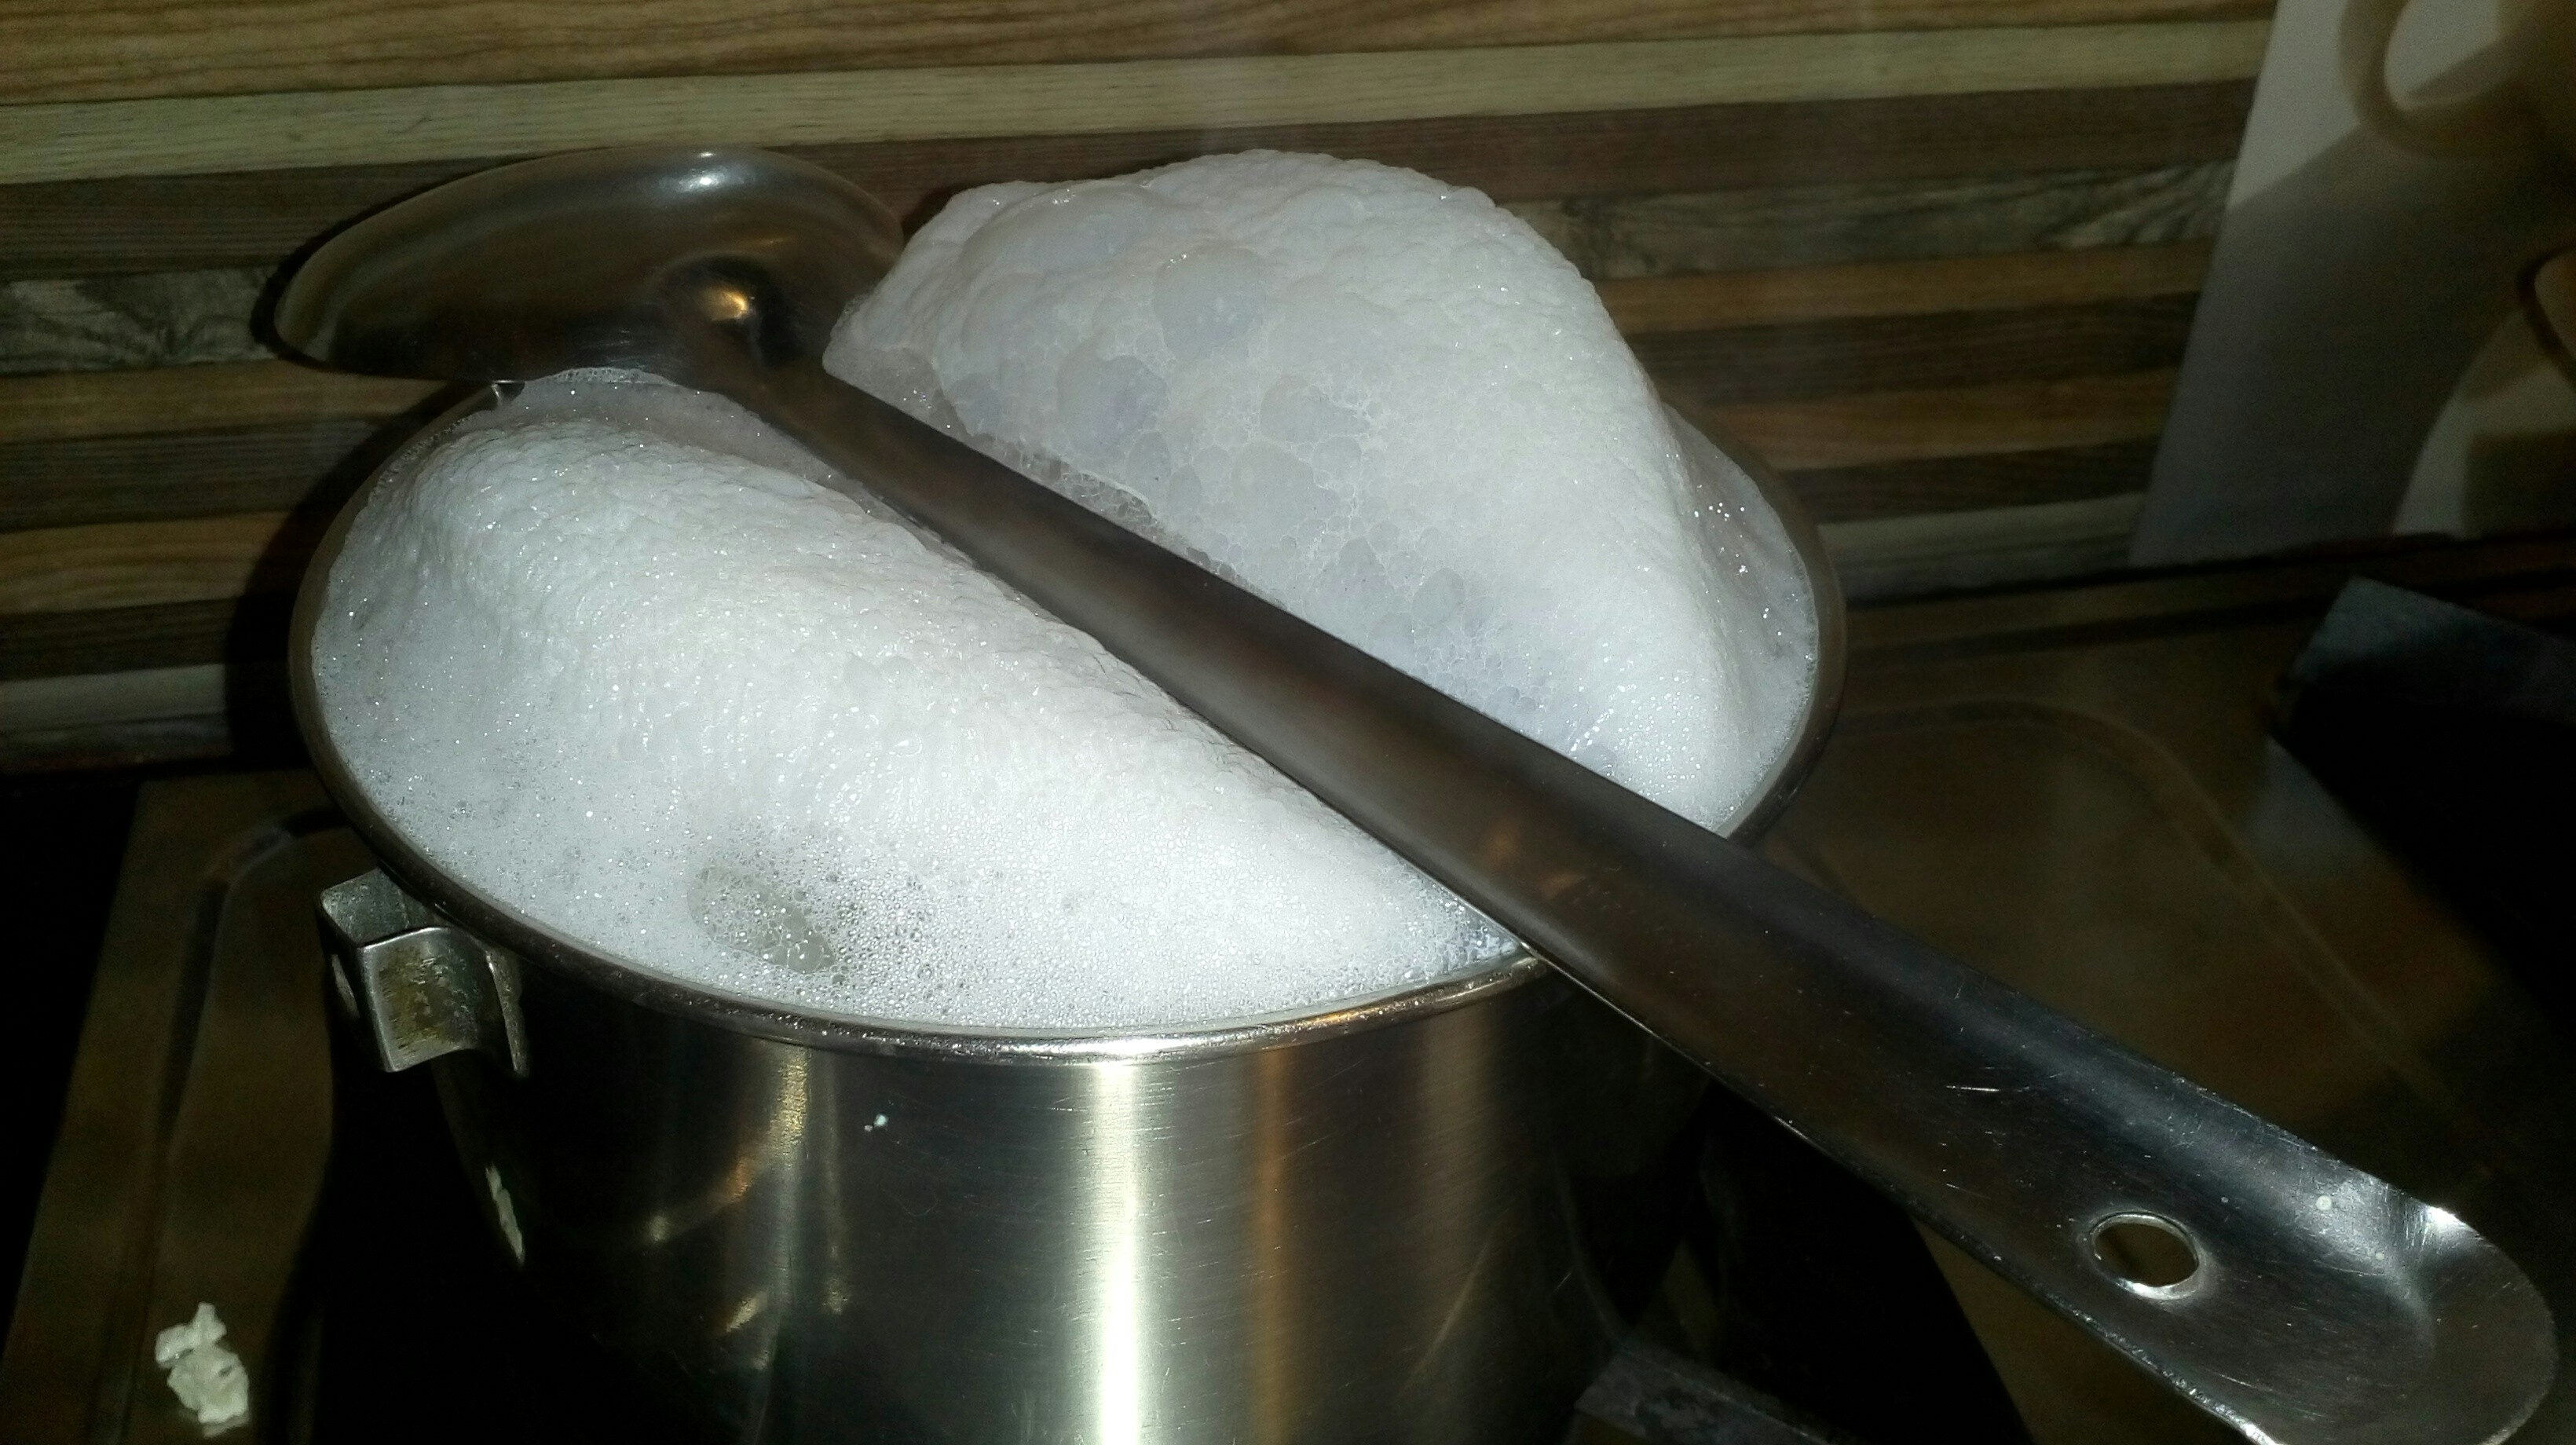Boiled: (223, 111, 1911, 1235)
